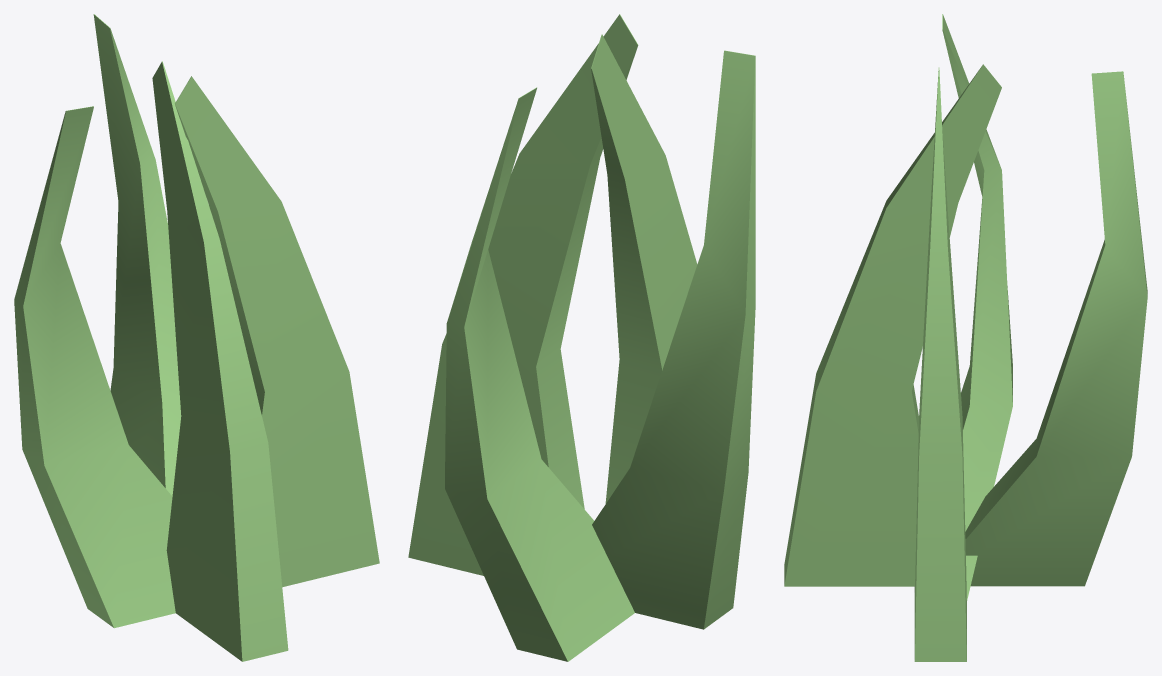
The model's file is grass11.fbx.
3 renders of one model, left to right at view 1: azimuth 30°, elevation 25°; view 2: azimuth 150°, elevation 25°; view 3: azimuth 270°, elevation 25°, orthographic. The views are drawn at different scales.
Parts seen in each view (by area): view 1: pCube36, pCube63, pCube64, pCube37; view 2: pCube64, pCube37, pCube63, pCube36; view 3: pCube36, pCube37, pCube63, pCube64.
Part boxes in pixels (x1,y1,x2,y2): pCube36: [152, 61, 288, 661]; pCube63: [175, 76, 379, 587]; pCube64: [14, 106, 175, 628]; pCube37: [93, 14, 181, 496]; pCube64: [592, 50, 755, 629]; pCube37: [445, 87, 634, 661]; pCube63: [408, 14, 638, 575]; pCube36: [591, 34, 697, 503]; pCube36: [784, 64, 1001, 586]; pCube37: [965, 71, 1147, 586]; pCube63: [914, 67, 966, 661]; pCube64: [914, 14, 1012, 600].
Size of the model in its own units: 1.7 by 2.64 by 1.7.
